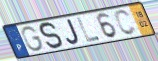6: (96, 12, 119, 40)
C: (114, 8, 139, 36)
G: (21, 25, 46, 53)
J: (65, 18, 81, 45)
L: (75, 17, 102, 43)
S: (39, 20, 64, 51)
